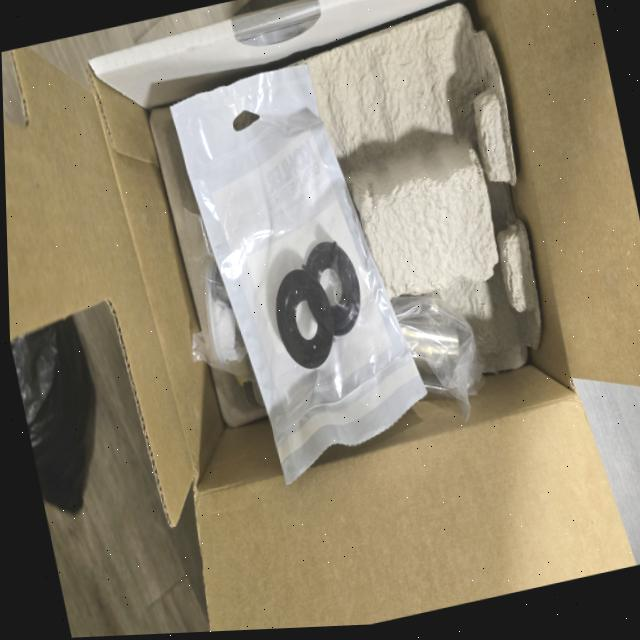11o: (189, 264, 480, 421)
13: (169, 64, 425, 482)
